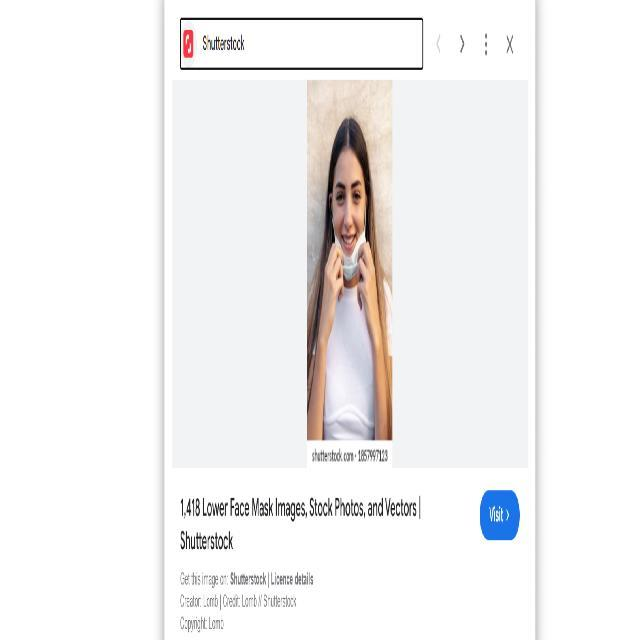face_no_mask: (328, 145, 372, 254)
